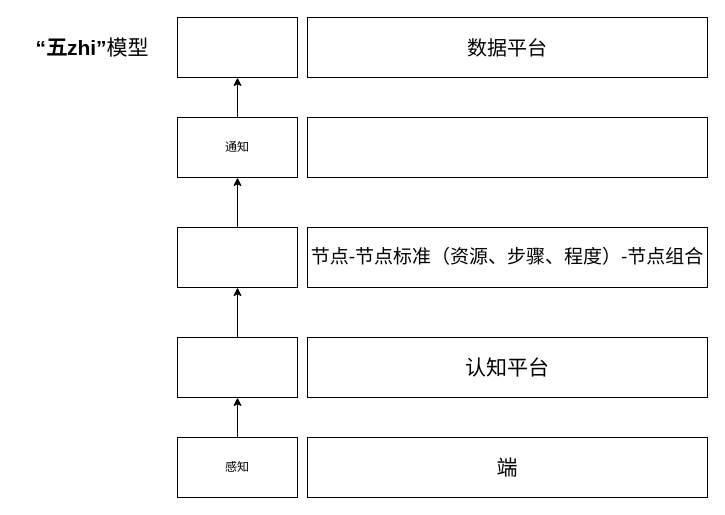
The diagram is 725 pixels wide and 515 high, and some of its shapes have lost their labels. The box of each missing label's shape, as (x1, y1, x2, y2) in pixels:
组织: (176, 226, 298, 288)
认知: (176, 336, 298, 398)
预知: (176, 16, 298, 78)
